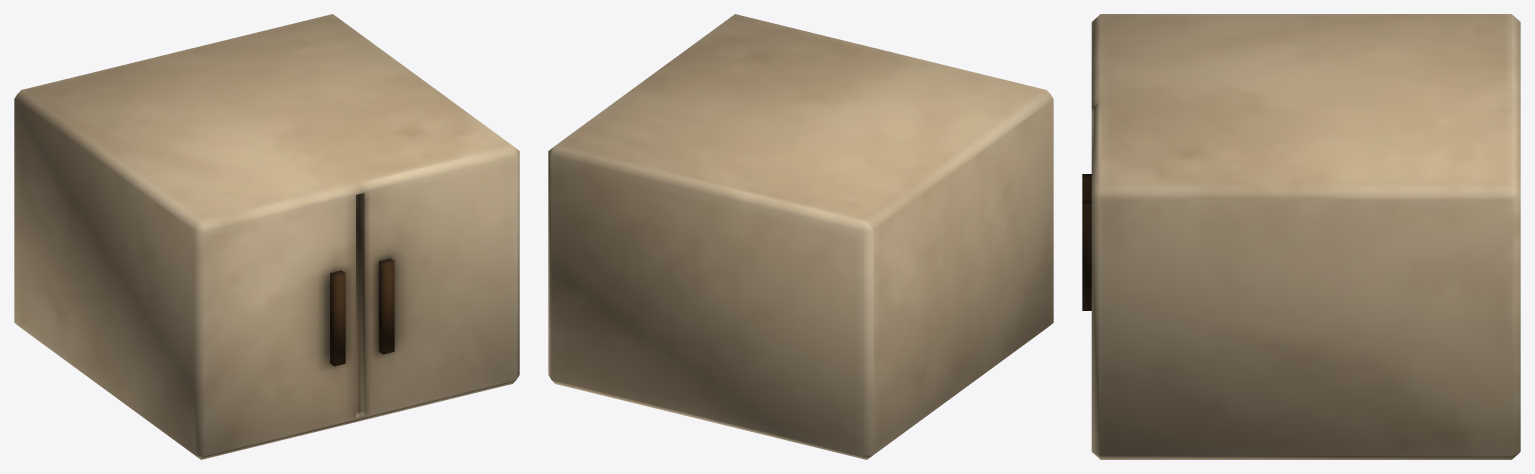
The model's file is Kitchen Upper Cabinet1_3.fbx.
The picture shows the model from 3 angles, left to right: view 1: azimuth 30°, elevation 25°; view 2: azimuth 150°, elevation 25°; view 3: azimuth 270°, elevation 25°; orthographic projection. The views are drawn at different scales.
Visible parts, largest first — view 1: Kitchen Upper Cabinet1_3; view 2: Kitchen Upper Cabinet1_3; view 3: Kitchen Upper Cabinet1_3.
Boxes of the visible parts, x1,y1,x2,y2 form: Kitchen Upper Cabinet1_3: (14,14,519,459); Kitchen Upper Cabinet1_3: (548,14,1053,459); Kitchen Upper Cabinet1_3: (1082,14,1520,459).
Bounding box in the file's own units: 1 × 0.7 × 1.02.
Materials: 1 (1 with a texture image).
